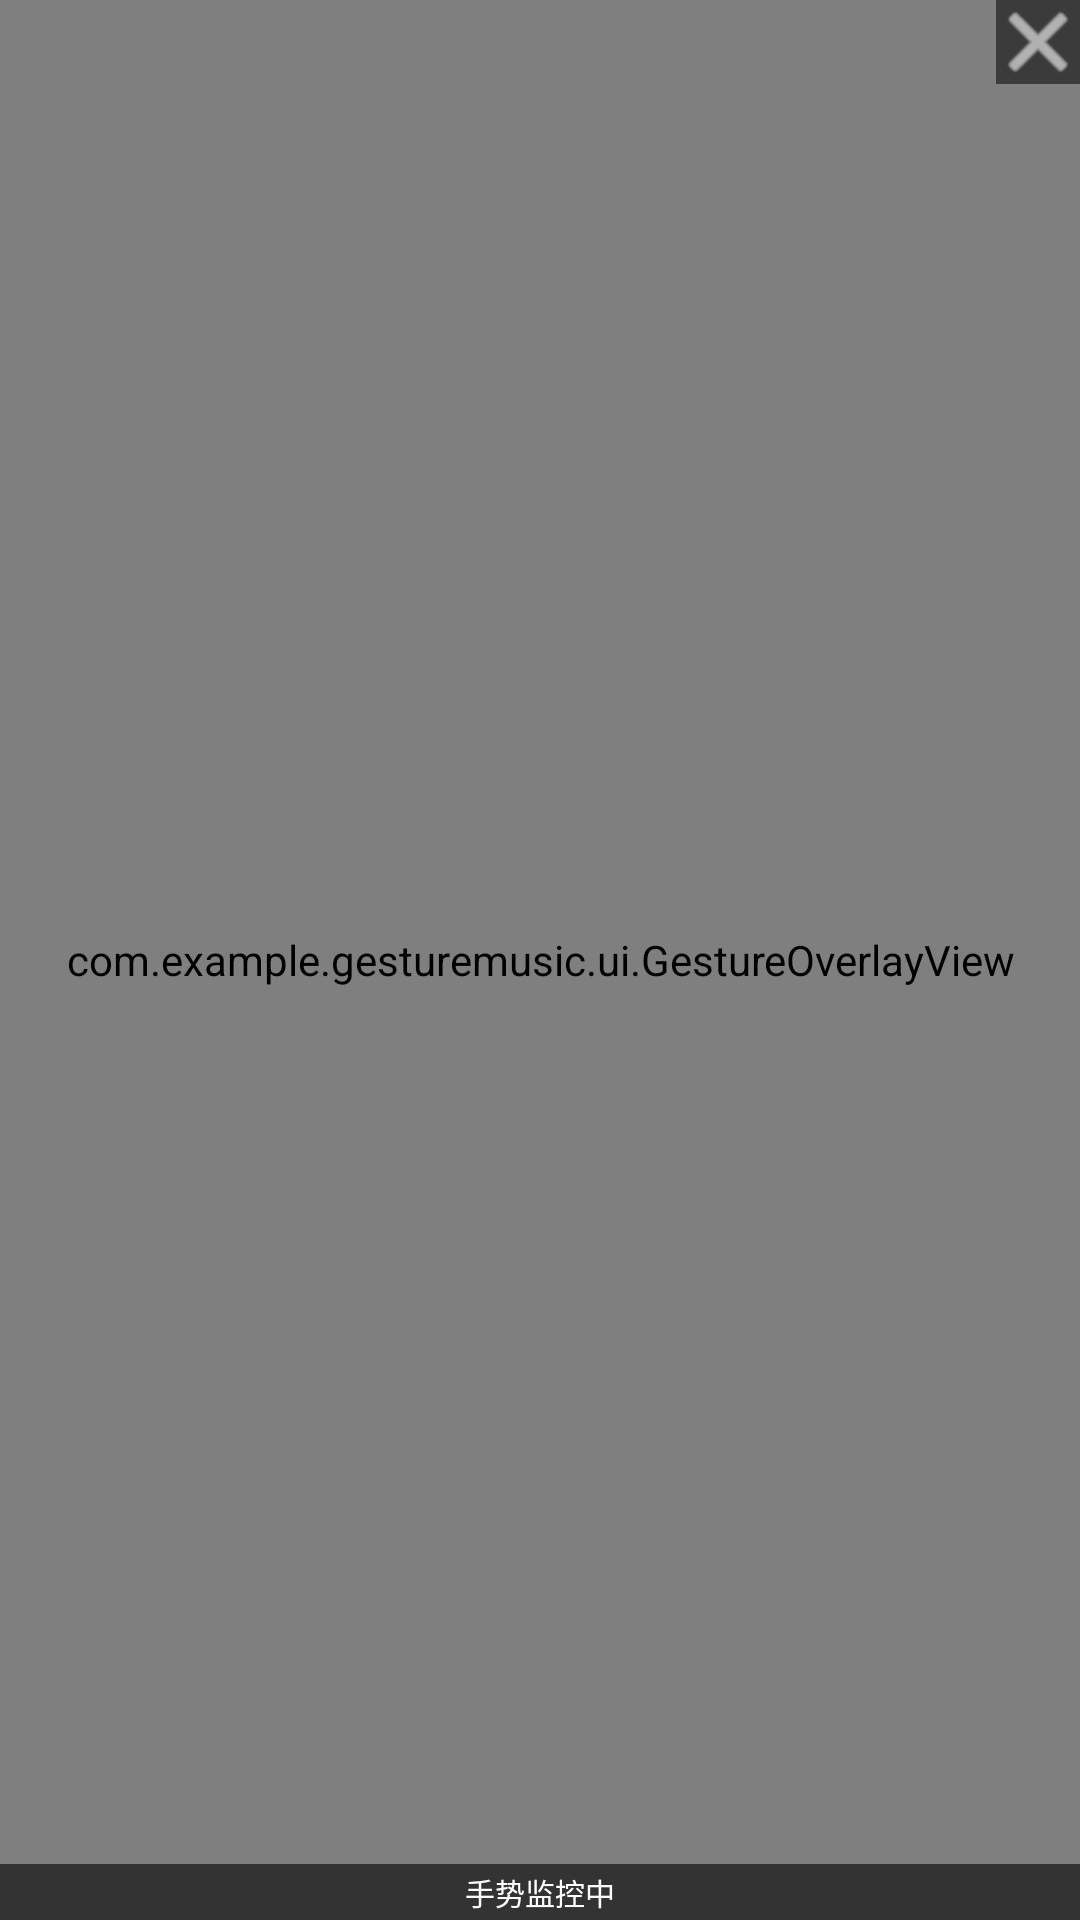

Where icons sit on this 1080px x 1920px app screen, as (left=x1, top=y1, right=x2, bottom=y2):
关闭悬浮窗: (left=996, top=0, right=1080, bottom=84)
